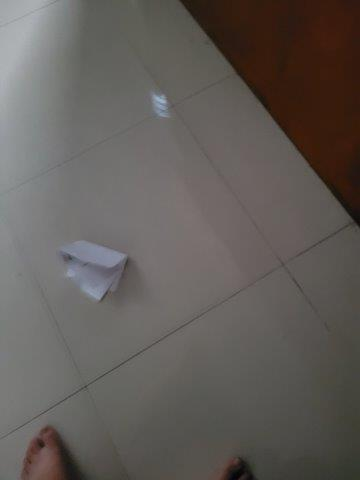kertas: (60, 238, 129, 301)
